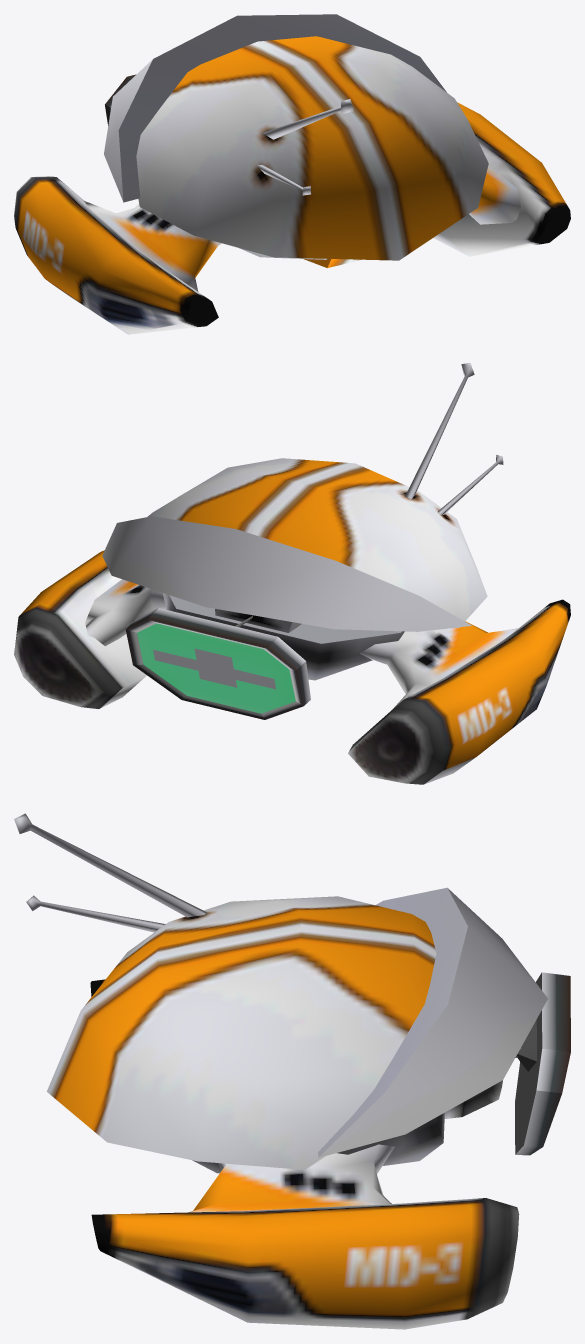
File: list.ico.obj
3 renders of one model, top to bottom at view 1: azimuth 30°, elevation 25°; view 2: azimuth 150°, elevation 25°; view 3: azimuth 270°, elevation 25°, orthographic. The views are drawn at different scales.
Bounding box in the file's own units: 2.69 × 1.57 × 2.21.
Materials: 1 (1 with a texture image).
